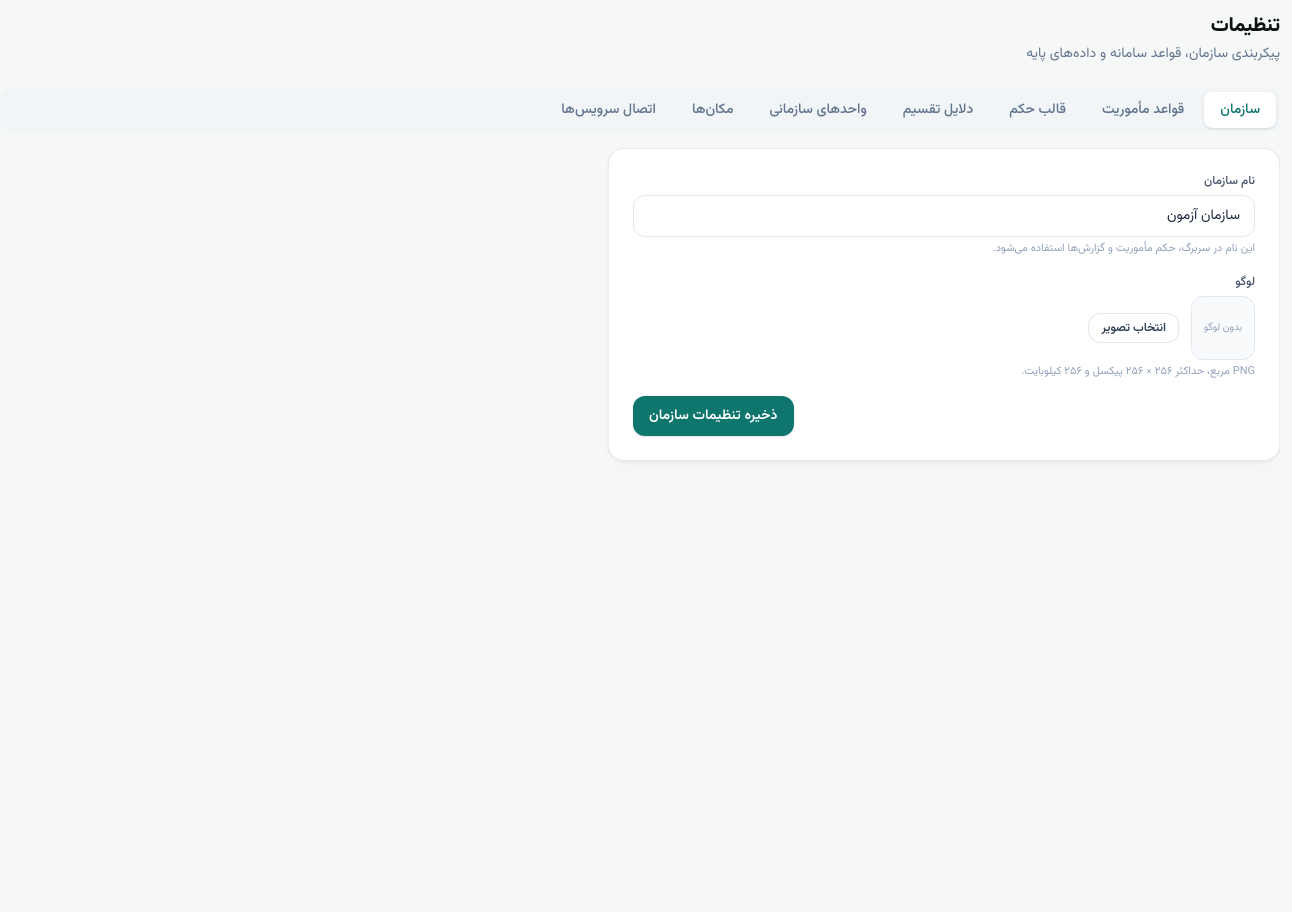
Scenario: settings form hydration › hydrates rules, session policy, and mission template from the same query result
Expected: the field showing "سازمان آزمون" is shown, [633,195,1255,237]
Click the button "قواعد مأموریت": (1143, 110) [1086,92,1200,128]
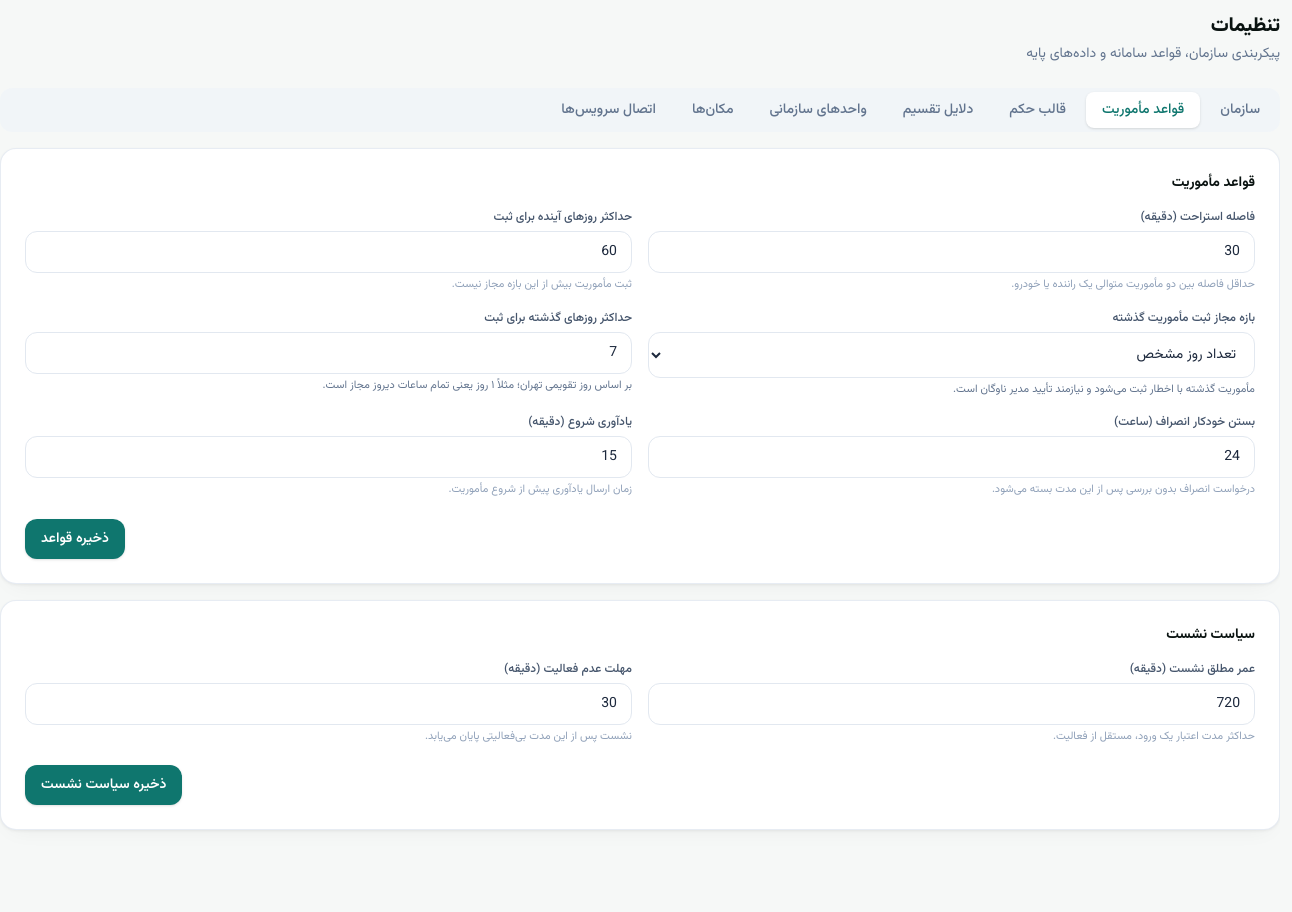
Expected: the number of number fields showing "30" is 2, [648,231,1255,273]; [25,682,632,724]
Expected: the number field showing "720" below "عمر مطلق نشست (دقیقه)" is shown, [648,682,1255,724]
Click the button "قالب حکم": (1038, 110) [993,92,1082,128]
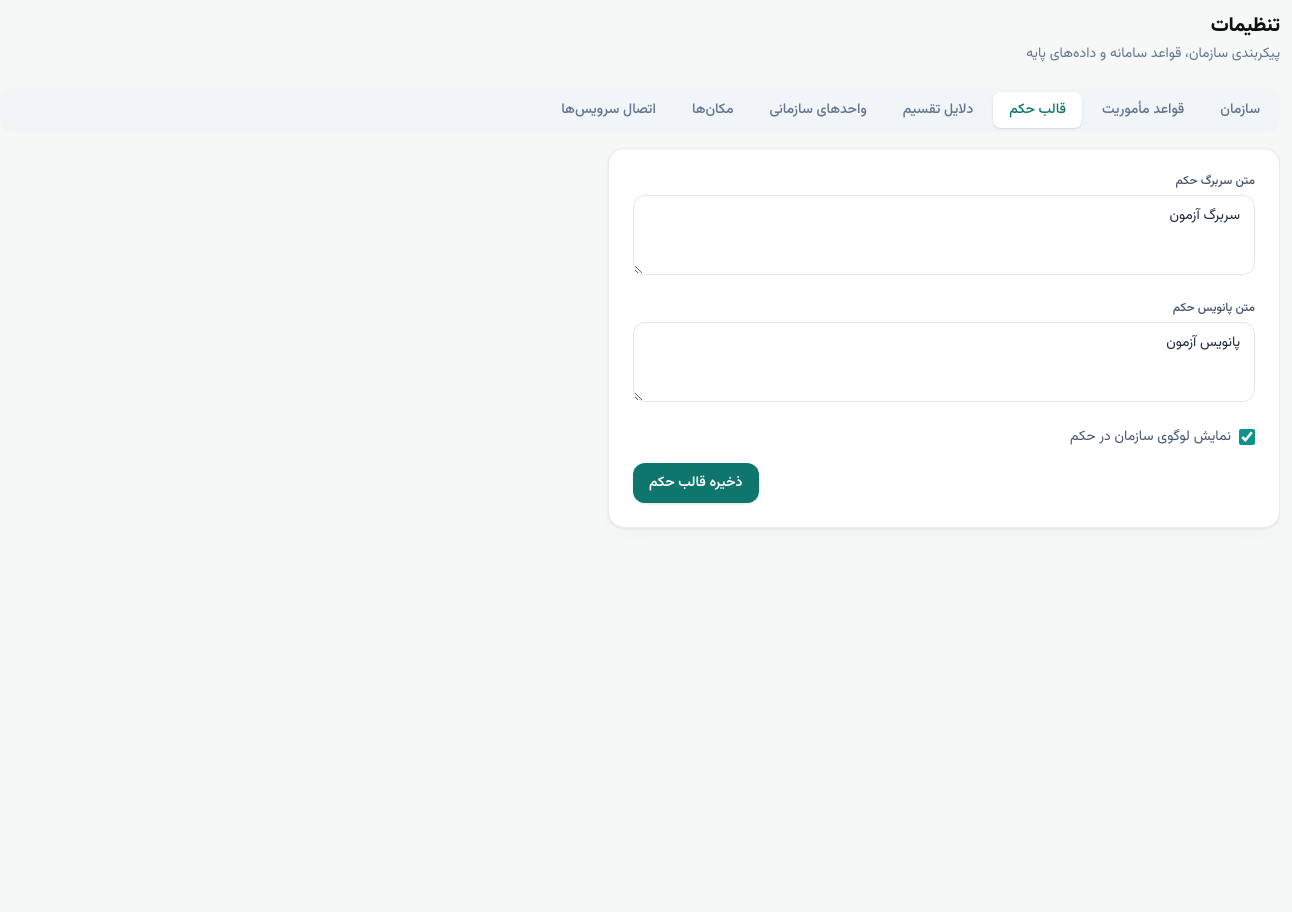
Expected: the text box showing "سربرگ آزمون" below "متن سربرگ حکم" is shown, [633,195,1255,275]
Expected: the text box showing "پانویس آزمون" below "متن پانویس حکم" is shown, [633,322,1255,402]
